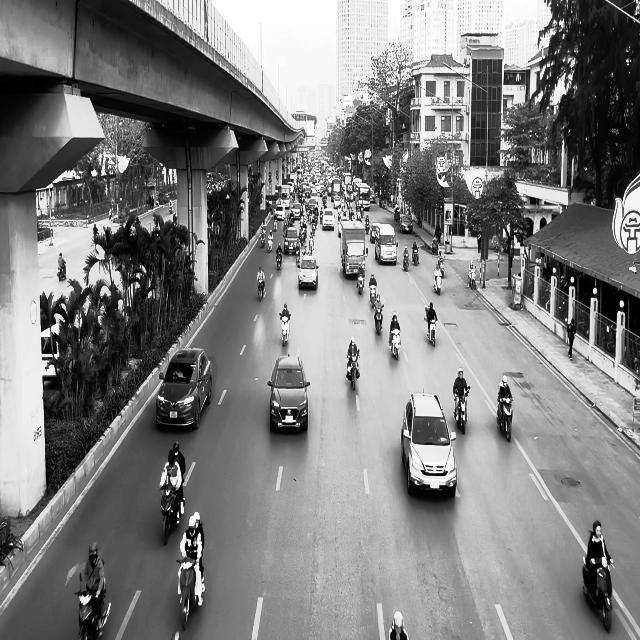car: (401, 390, 457, 497), (156, 346, 213, 429), (268, 354, 310, 431), (298, 254, 319, 289), (399, 214, 414, 233)
motorbike: (582, 554, 614, 632), (75, 574, 112, 638), (177, 557, 204, 631), (160, 483, 185, 545), (496, 396, 514, 441), (454, 385, 470, 434), (347, 350, 360, 390), (425, 310, 437, 347), (389, 329, 401, 360), (280, 314, 291, 346), (374, 301, 384, 335), (468, 266, 477, 290), (257, 278, 266, 301), (57, 260, 66, 281), (276, 244, 283, 270), (412, 246, 420, 266), (369, 286, 377, 305)
